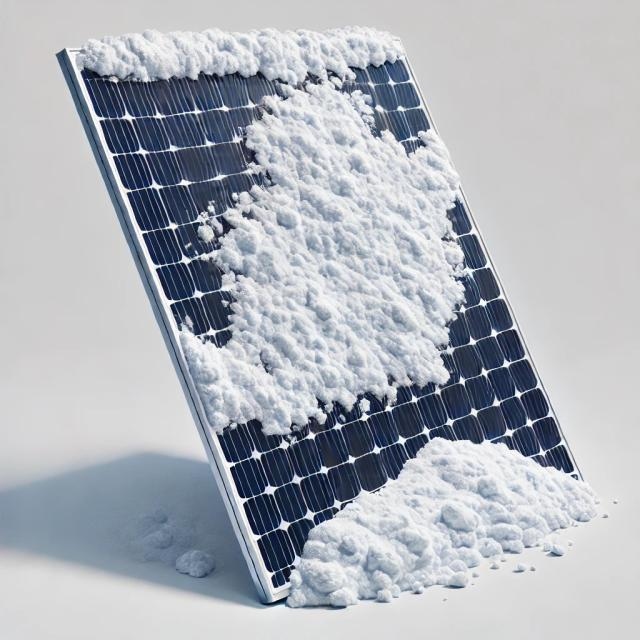Anomaly Solar Panel: (64, 41, 594, 598)
Snow: (160, 58, 498, 467), (254, 396, 603, 621), (75, 22, 403, 87)
